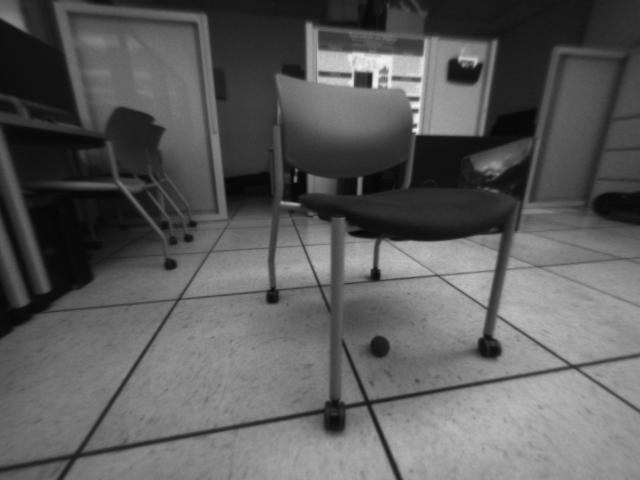dogtoy: (364, 329, 399, 363)
